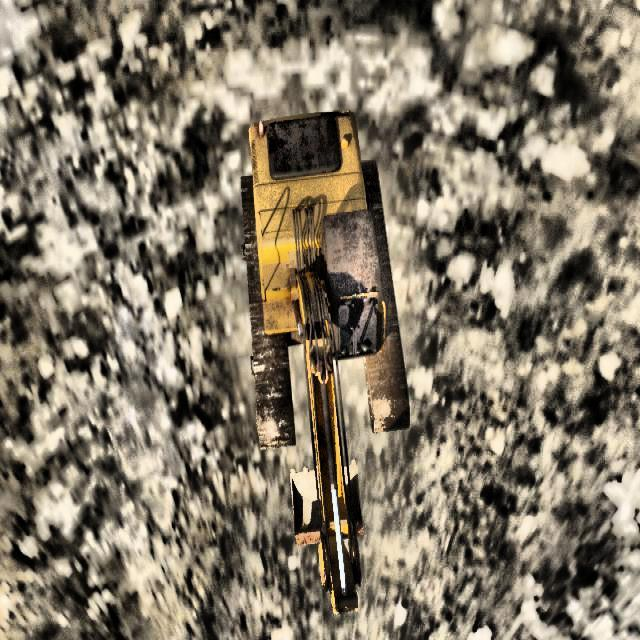excavator: (240, 110, 409, 614)
